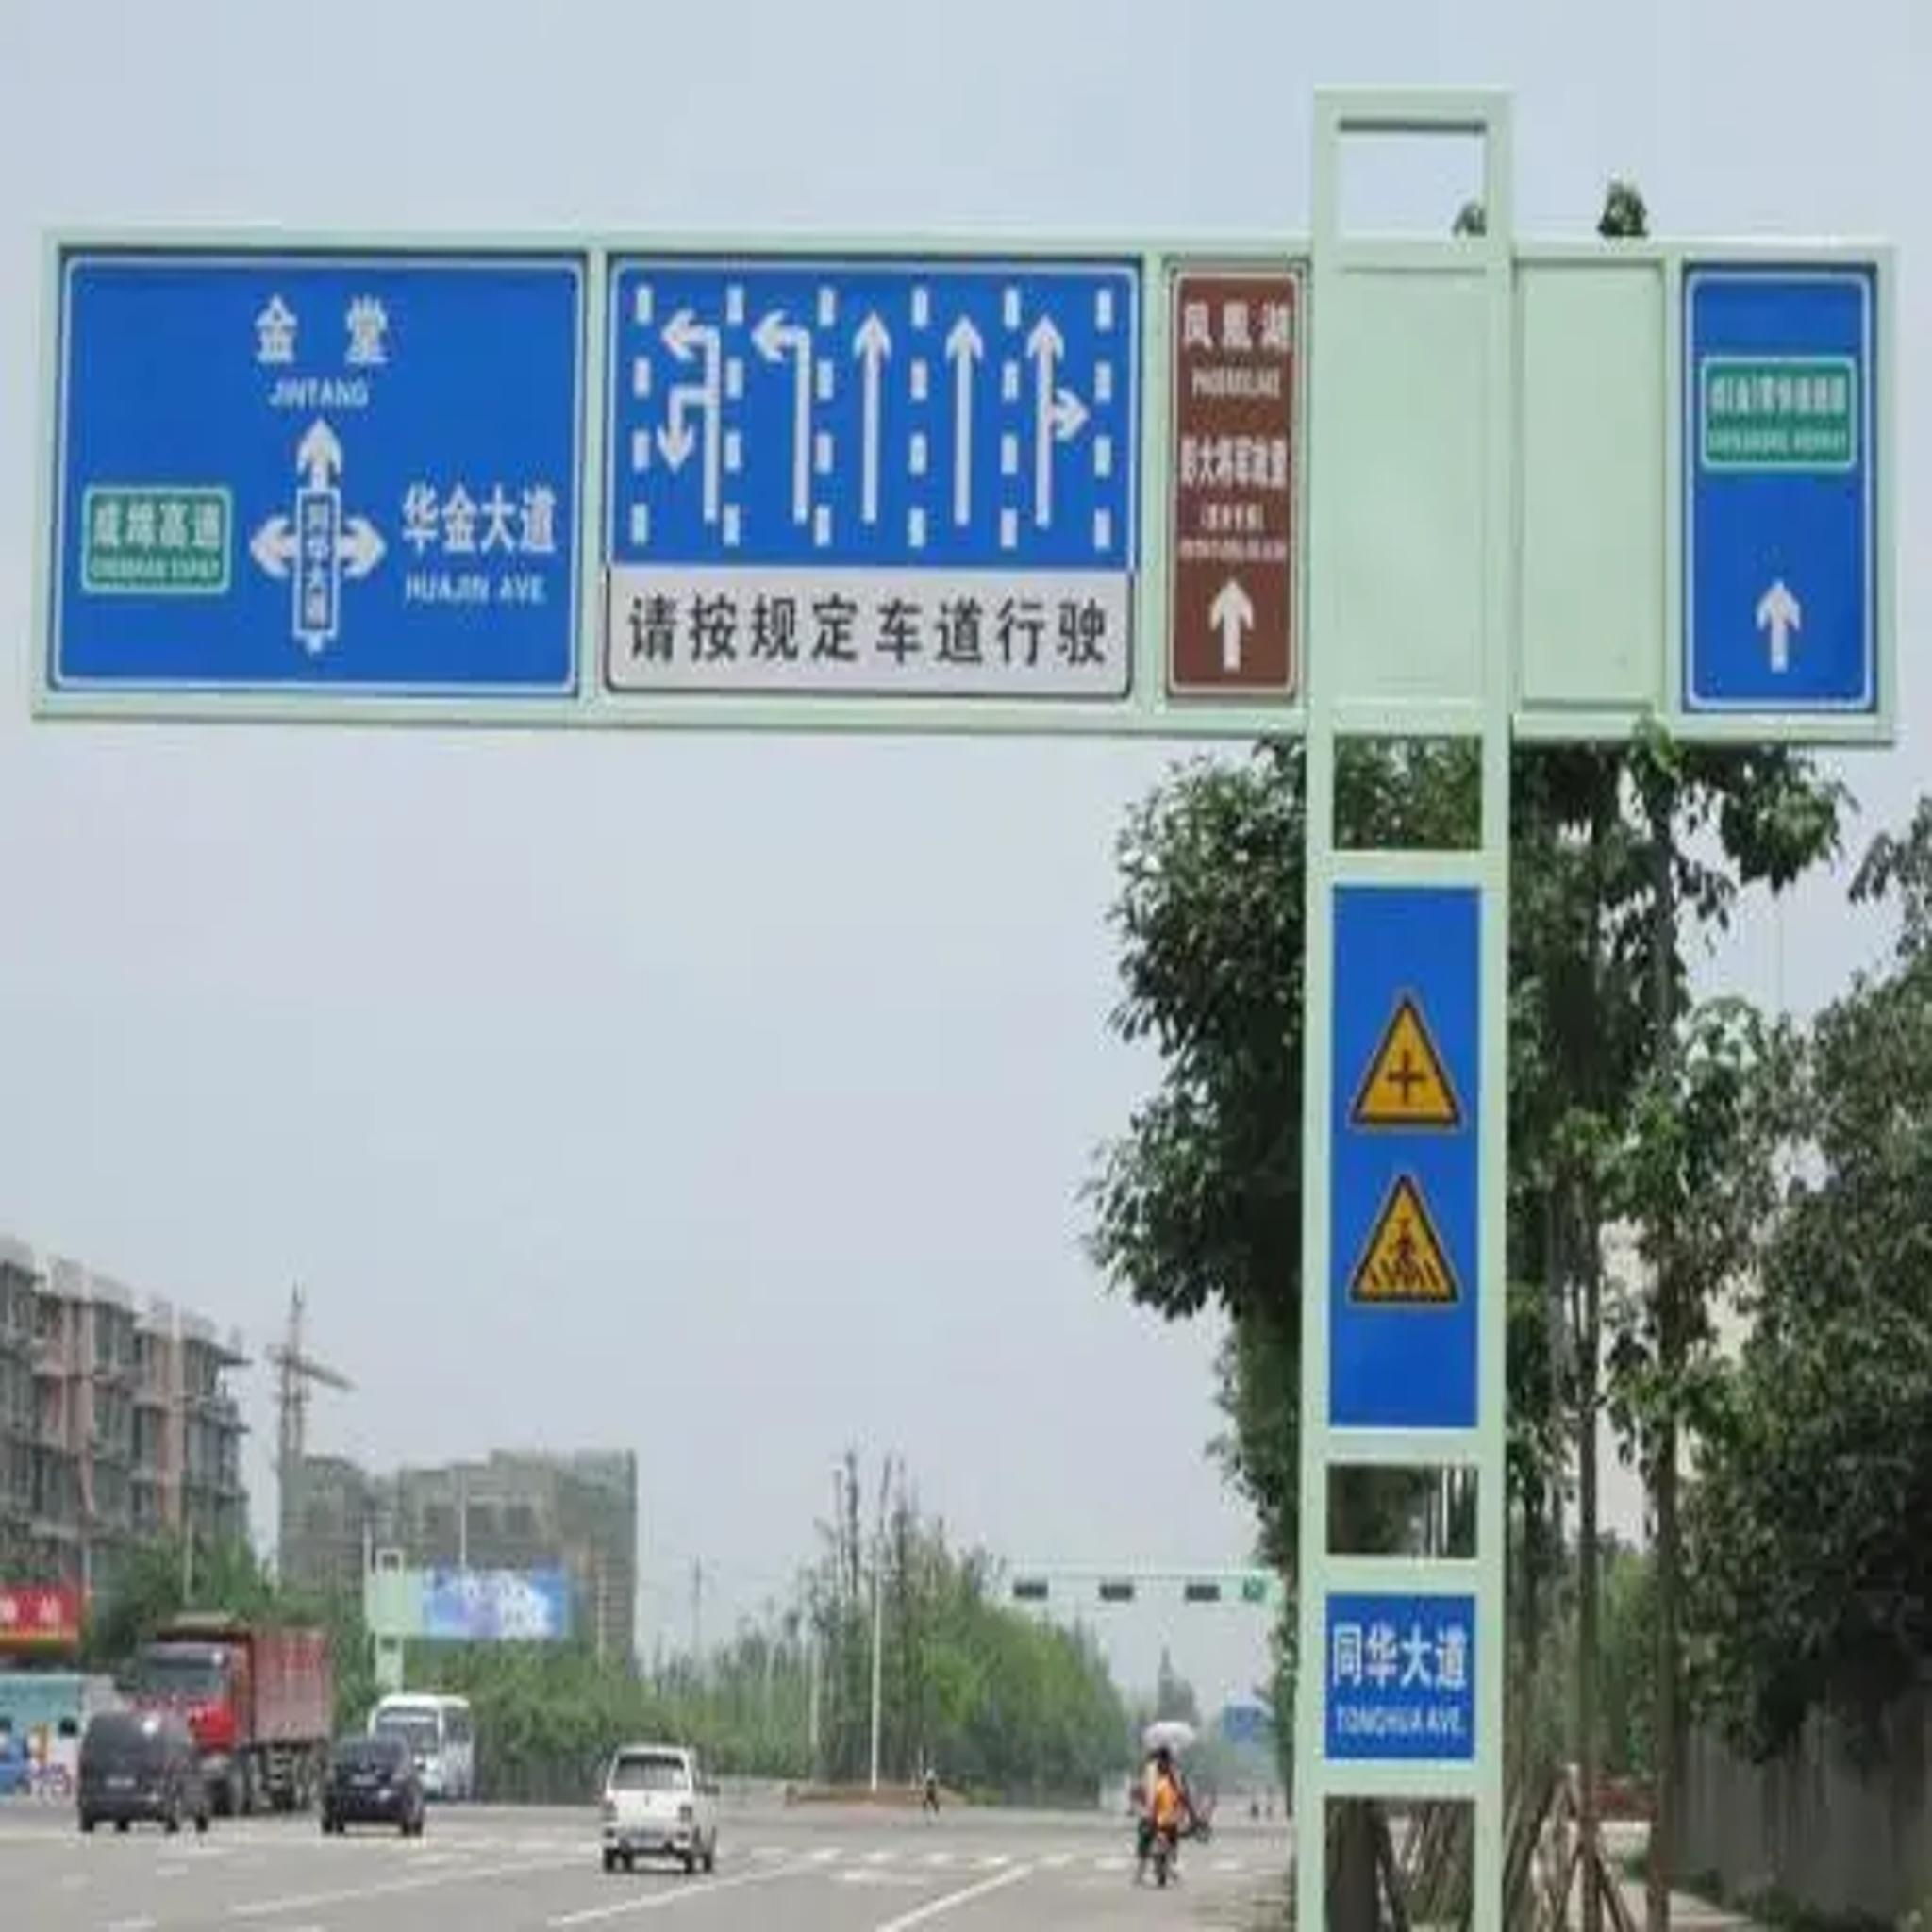w13: (1355, 1000, 1470, 1123)
w57: (1355, 1175, 1454, 1297)
